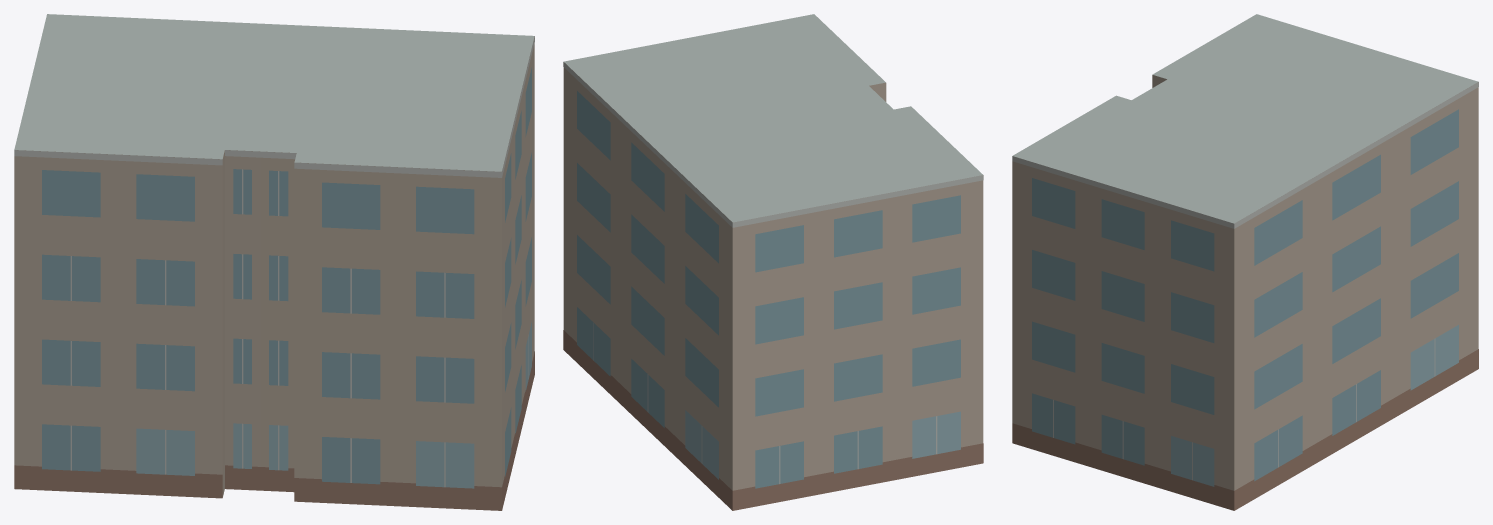
The model's file is survey-upis-32960041.glb.
3 views of the same model, side by side, from view 1: azimuth 30°, elevation 25°; view 2: azimuth 150°, elevation 25°; view 3: azimuth 270°, elevation 25° (orthographic). The views are drawn at different scales.
Parts seen in each view (by area): view 1: survey-upis-32960041.tmp; view 2: survey-upis-32960041.tmp; view 3: survey-upis-32960041.tmp.
Boxes of the visible parts, x1=… form: survey-upis-32960041.tmp: x1=14, y1=14, x2=534, y2=510; survey-upis-32960041.tmp: x1=563, y1=14, x2=983, y2=510; survey-upis-32960041.tmp: x1=1012, y1=14, x2=1478, y2=510.
Size of the model in its own units: 20.83 by 13.3 by 19.58.
